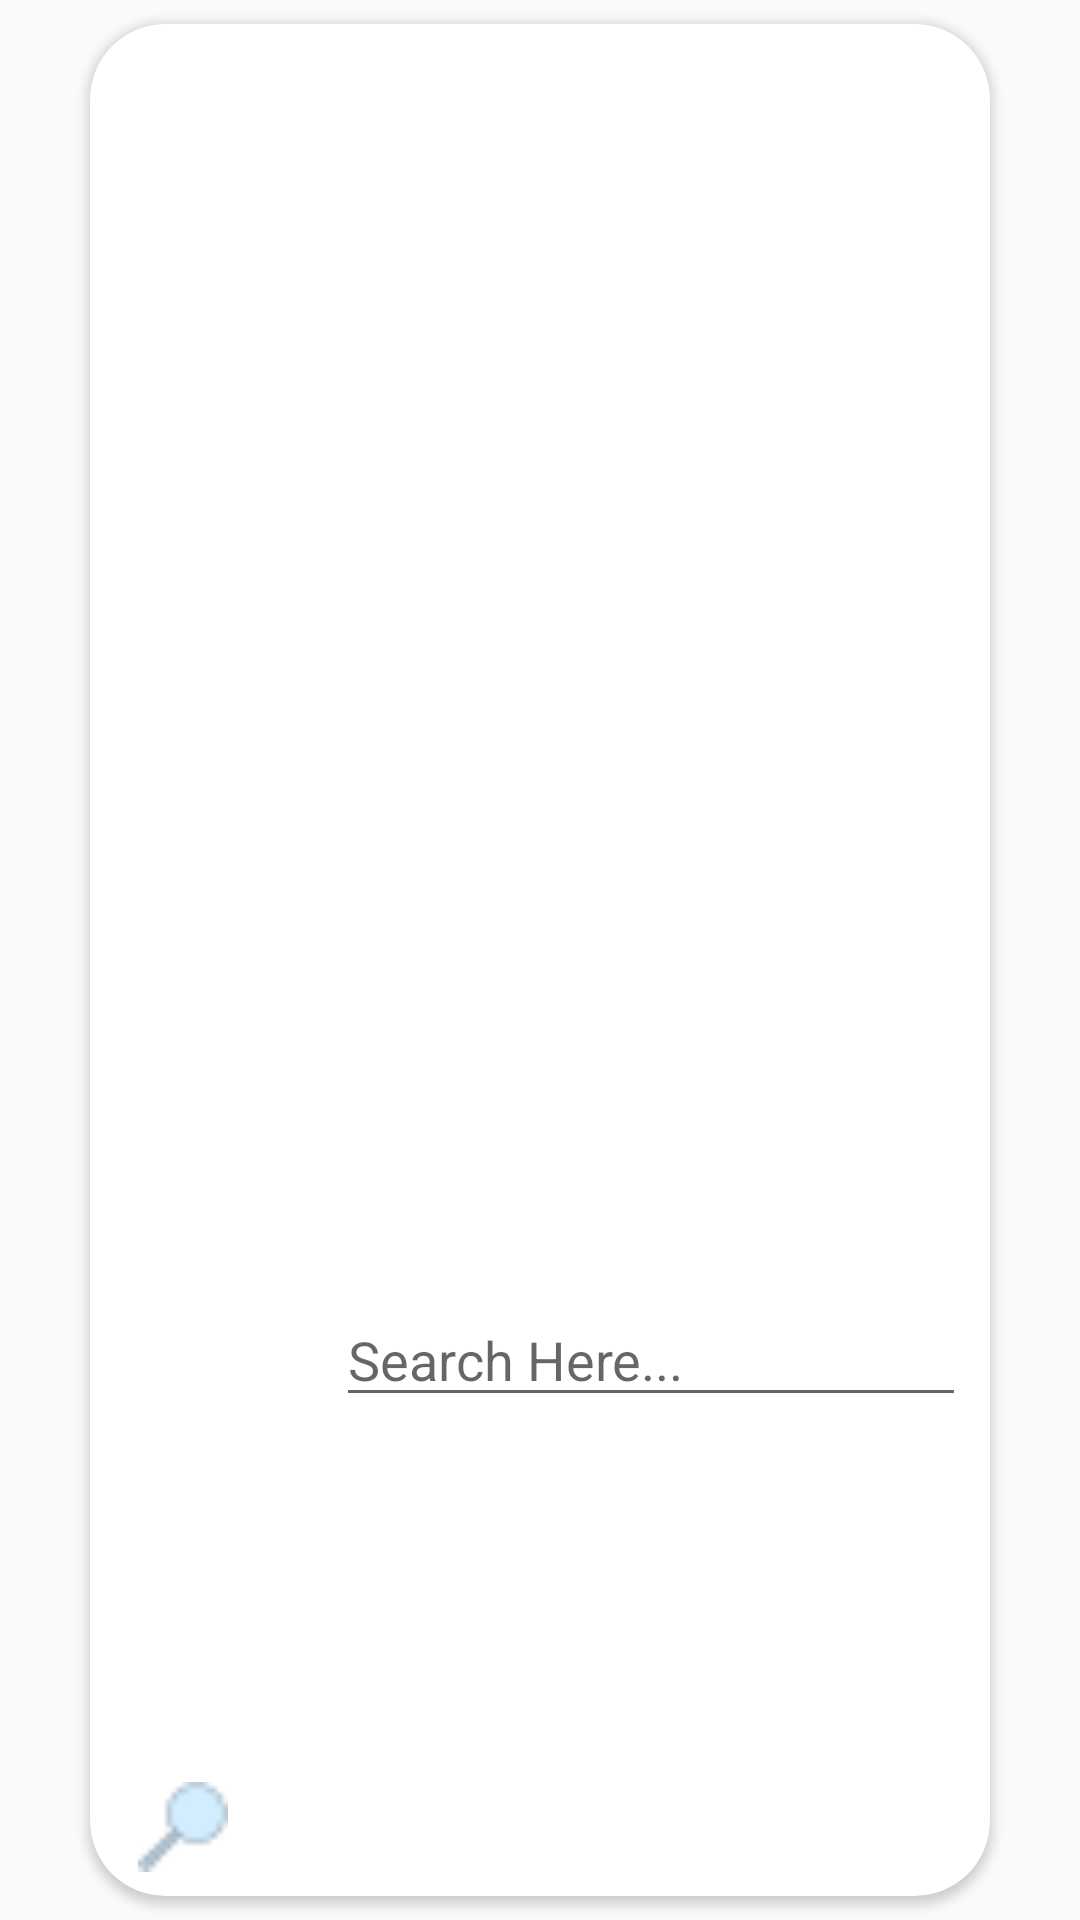

Named icons in this screenshot (1080w x 1920h) and their centers, point (x, y):
emsearchbtn: point (183, 1827)
